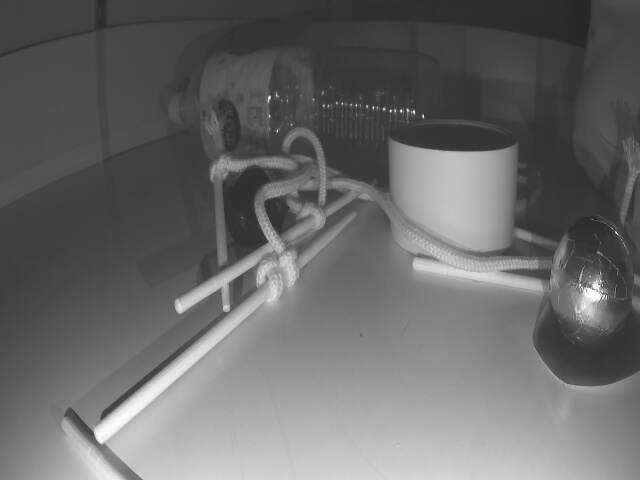Dead: (227, 162, 295, 243)
Live: (550, 212, 634, 349)
